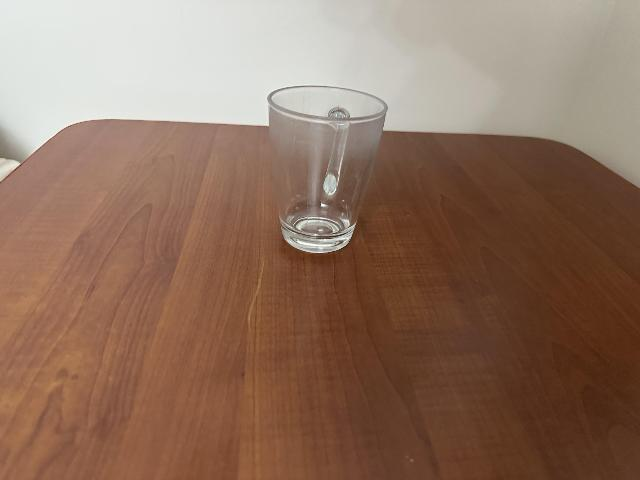Cam: (262, 83, 411, 254)
